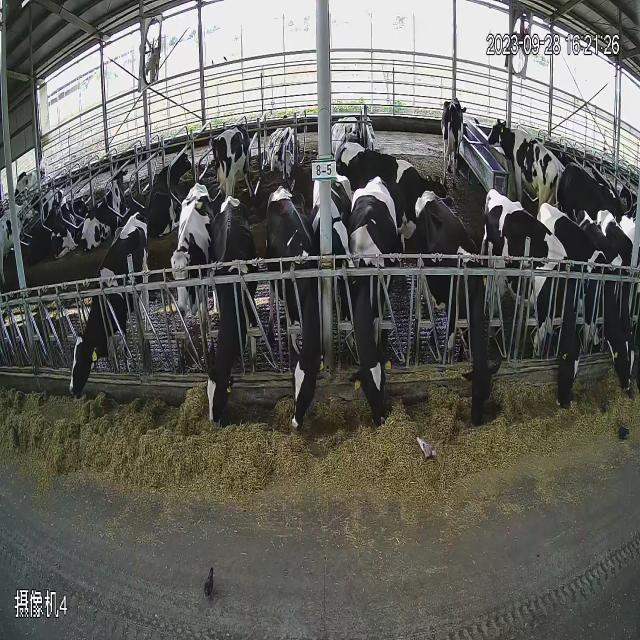drinking: (484, 110, 558, 174), (432, 84, 477, 167)
feeding: (404, 178, 496, 434), (511, 172, 582, 428), (64, 208, 155, 404), (263, 176, 323, 442), (351, 171, 398, 482), (206, 202, 258, 448), (582, 203, 640, 415)
standing: (204, 115, 258, 195)
